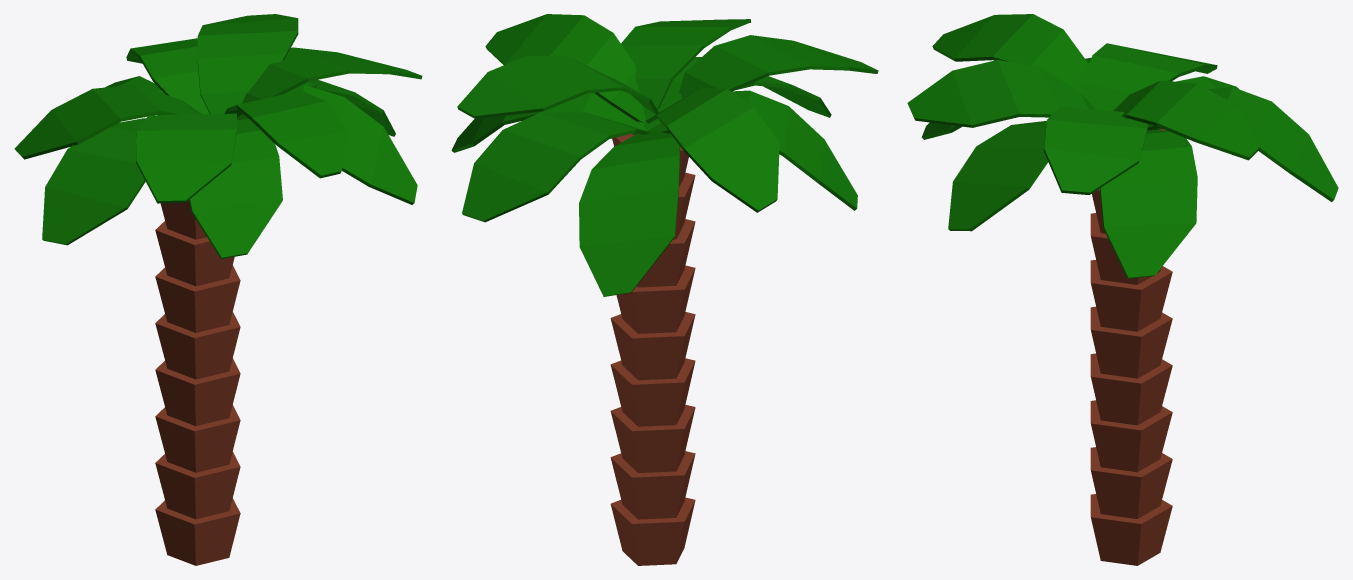
The model's file is dekel.fbx.
3 views of the same model, side by side, from view 1: azimuth 30°, elevation 25°; view 2: azimuth 150°, elevation 25°; view 3: azimuth 270°, elevation 25° (orthographic).
Visible parts, largest first — view 1: Plane.009; view 2: Plane.009; view 3: Plane.009.
Boxes of the visible parts, <box> form: Plane.009: <box>14,14,422,565</box>; Plane.009: <box>451,14,878,565</box>; Plane.009: <box>907,14,1338,565</box>.
Bounding box in the file's own units: 1329 × 1630 × 1308.
